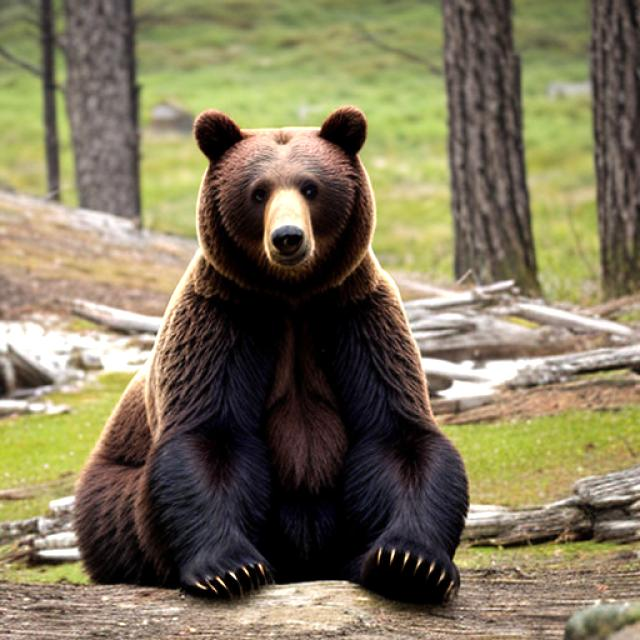bear: (92, 82, 502, 601)
